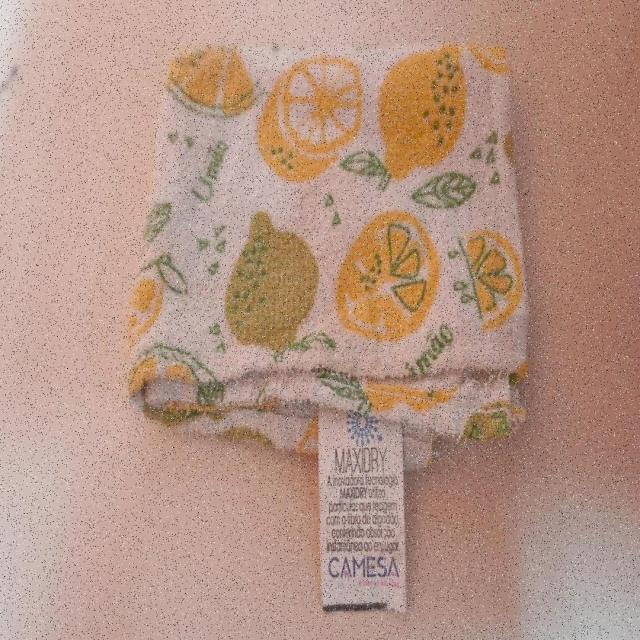Cloth: (125, 42, 530, 616)
